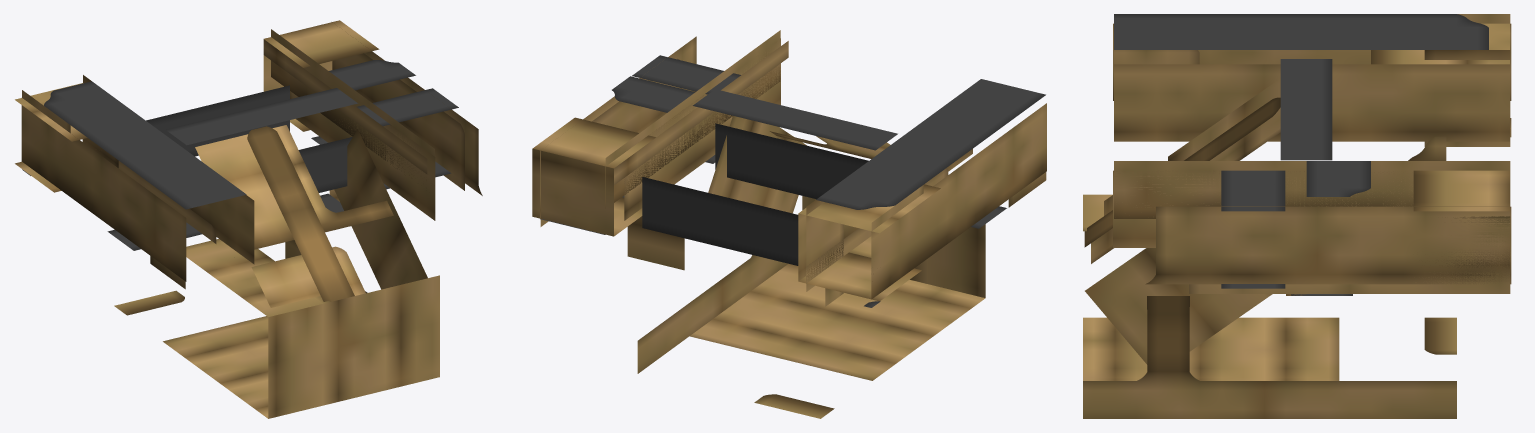
The model's file is m1097_turret.obj.
3 views of the same model, side by side, from view 1: azimuth 30°, elevation 25°; view 2: azimuth 150°, elevation 25°; view 3: azimuth 270°, elevation 25° (orthographic). The views are drawn at different scales.
Parts seen in each view (by area): view 1: turret, gun; view 2: gun, turret; view 3: gun, turret.
Boxes of the visible parts, x1,y1,x2,y2 form: turret: [114, 85, 439, 418]; gun: [15, 20, 482, 289]; gun: [532, 30, 1046, 307]; turret: [637, 89, 985, 418]; gun: [1113, 14, 1511, 293]; turret: [1083, 59, 1456, 418].
Bounding box in the file's own units: 2.66 × 1.7 × 2.56.
